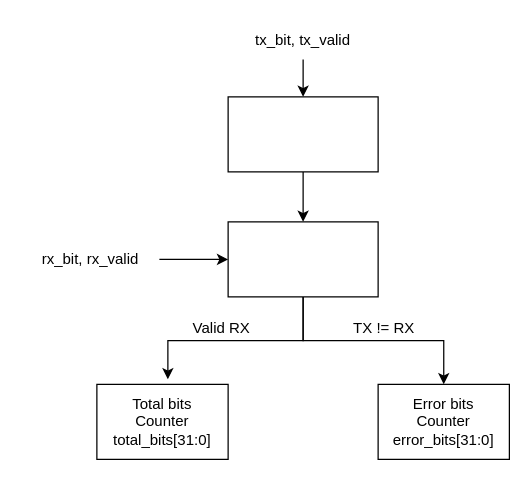
Some shapes in this 531 by 481 pixel diagram are drawn without their labels. The shapes that lost their labels are listed below. From the top down, each one's centre as x and y in pixels, then its label:
pixel 302 134: TX FIFO 16 x 1-bit
pixel 302 259: Compare
